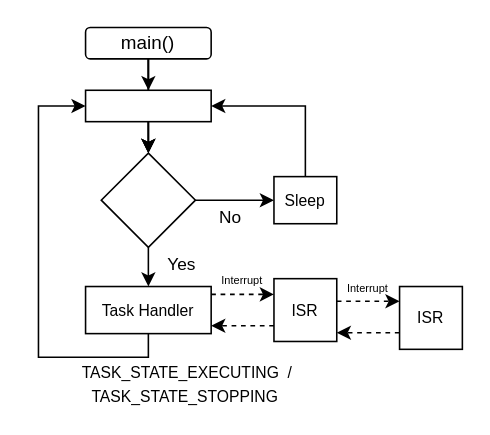
Some shapes in this 490 by 435 pixel diagram are drawn without their labels. Here are the shapes that lost their labels. From the top down, the centre of each, then its label:
point 147,105: Scheduler Loop
point 147,199: Expired Task?
